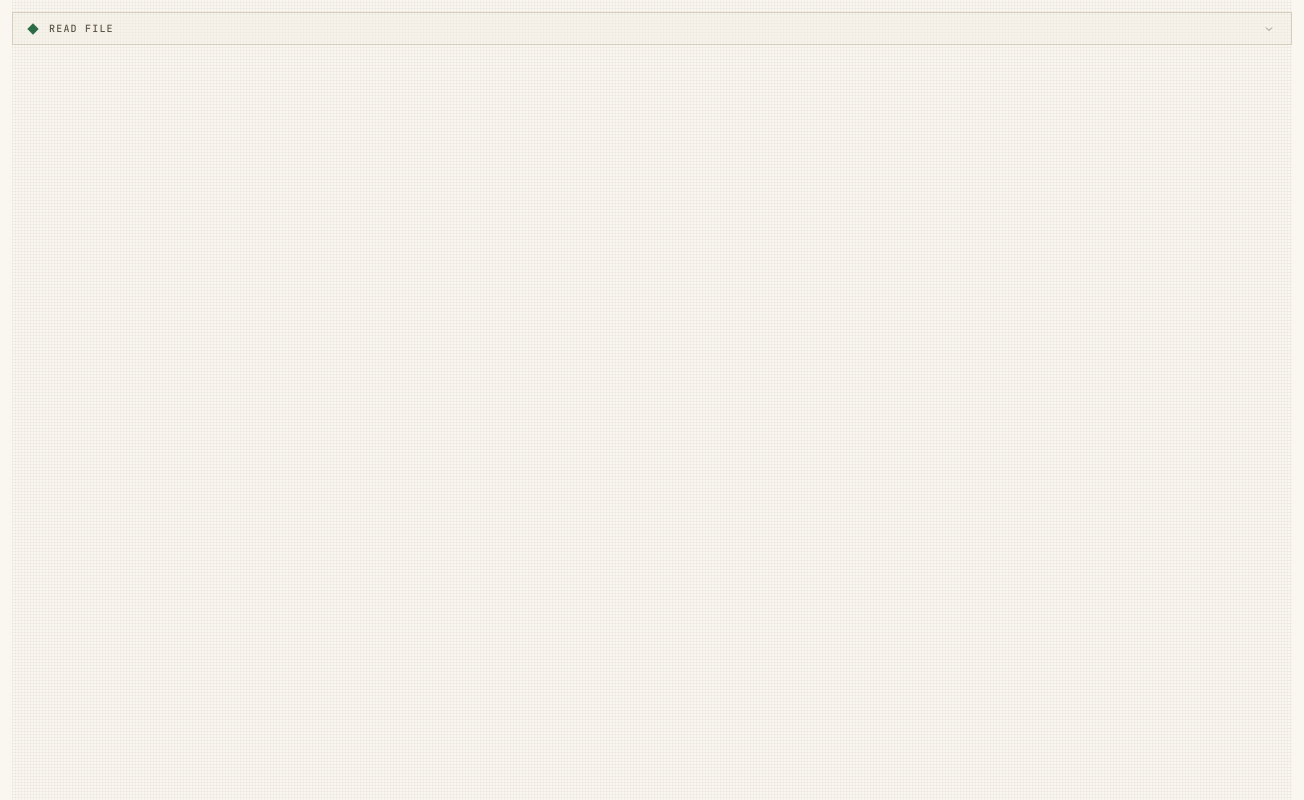
it: ToolCallBlock › should render result when provided (after expand)
The image size is (1304, 800).
Click the button "READ FILE": (81, 28) [13, 13, 1291, 44]
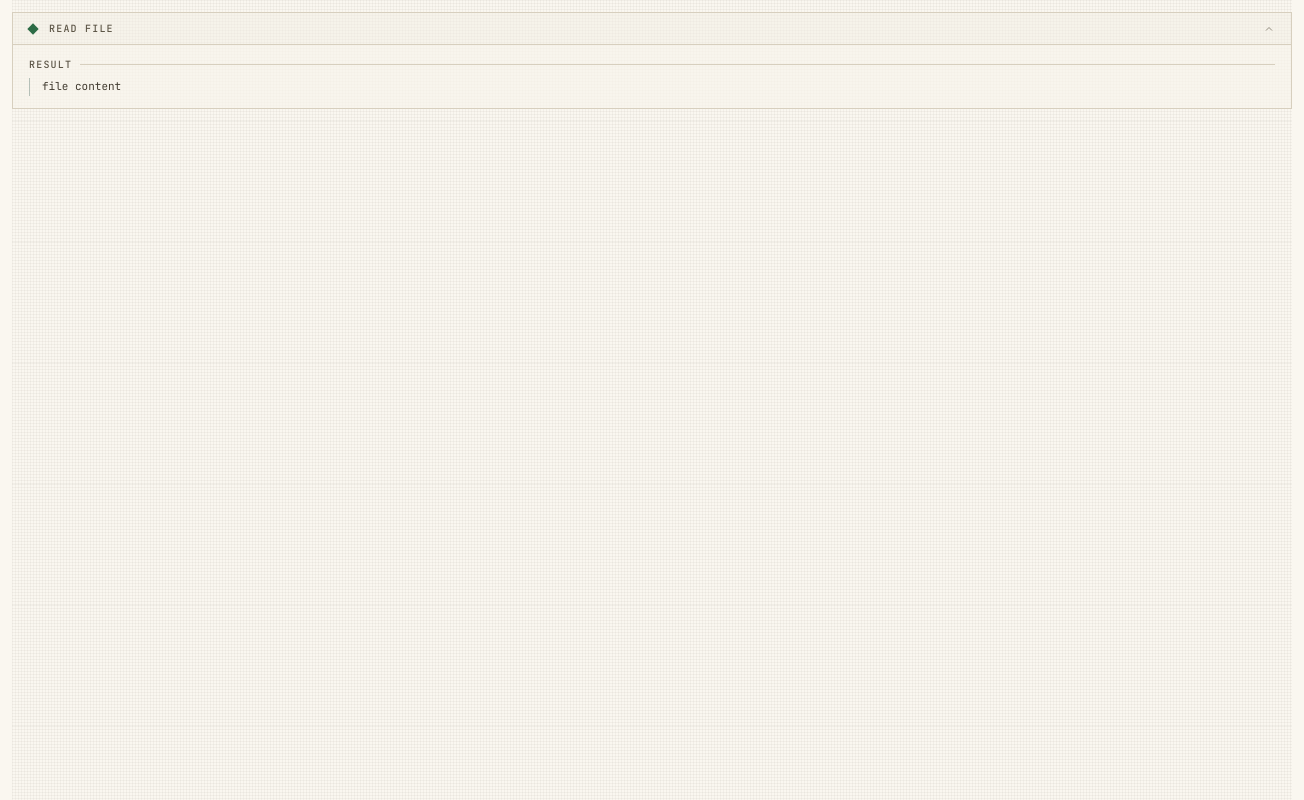
expect the text "file content" is shown: met, box [29, 78, 1275, 96]
